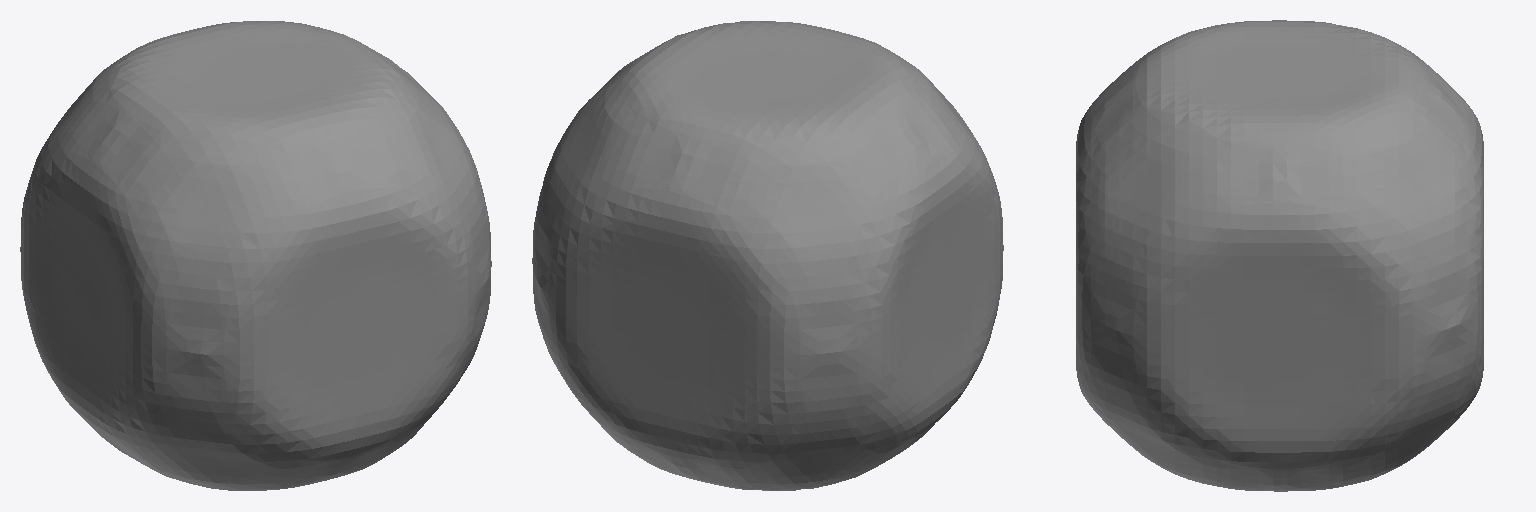
URDF robot description (cube.urdf):
<?xml version="0.0" ?> 
<robot name="cube.urdf"> 
<link name="legobrick"> 
<contact> 
<lateral_friction value="5.0"/> 
<rolling_friction value="0.0"/> 
<contact_cfm value="0.0"/> 
<contact_erp value="1.0"/> 
</contact> 
<inertial> 
<origin rpy="0 0 0" xyz="0.0 0.0 0.0"/> 
<mass value=".01"/> 
<inertia ixx="1" ixy="0" ixz="0" iyy="1" iyz="0" izz="1"/> 
</inertial> 
<visual> 
<origin rpy="1.570796 0 0" xyz="-0.025884531695612768 0.025874311298346785 -0.02589338503214491"/> 
<geometry> 
<mesh filename="E00_2.obj" scale="0.0006999461482431927 0.0006999461482431927 0.0006999461482431927"/> 
</geometry> 
<material name="yellow"> 
<color rgba="0.6 0.6 0.6 1"/> 
</material> 
</visual> 
<collision> 
<origin rpy="1.570796 0 0" xyz="-0.025884531695612768 0.025874311298346785 -0.02589338503214491"/> 
<geometry> 
<mesh filename="E00_2.obj" scale="0.0006999461482431927 0.0006999461482431927 0.0006999461482431927"/> 
</geometry> 
</collision> 
</link> 
</robot>

--- What the picture shows (computed from the rendered views, not written in the file) ---
The picture shows the robot from 3 angles, left to right: view 1: azimuth 30°, elevation 25°; view 2: azimuth 150°, elevation 25°; view 3: azimuth 270°, elevation 25°; orthographic projection.
Robot: cube.urdf — 1 links, 0 joints (none); root link legobrick; default pose: all joints at 0.
Links seen in each view (by area): view 1: legobrick; view 2: legobrick; view 3: legobrick.
Link boxes in pixels (x1=…): legobrick: x1=20, y1=21, x2=491, y2=490; legobrick: x1=532, y1=21, x2=1003, y2=490; legobrick: x1=1076, y1=20, x2=1483, y2=491.
Size in the robot's own frame: 0.056 by 0.056 by 0.056 metres.
Meshes: 1 distinct files referenced, 1 mesh visuals loaded (1 OBJ).
